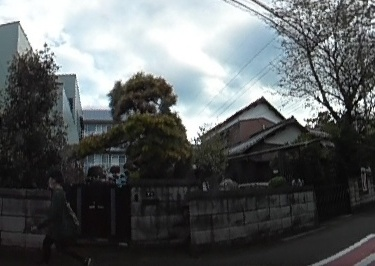person: (40, 171, 89, 266)
